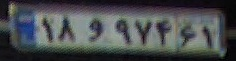character: (57, 13, 78, 46), (86, 15, 108, 46), (134, 15, 153, 49), (154, 16, 174, 48), (114, 15, 133, 47), (180, 22, 197, 52), (39, 14, 55, 45), (200, 24, 216, 52)
